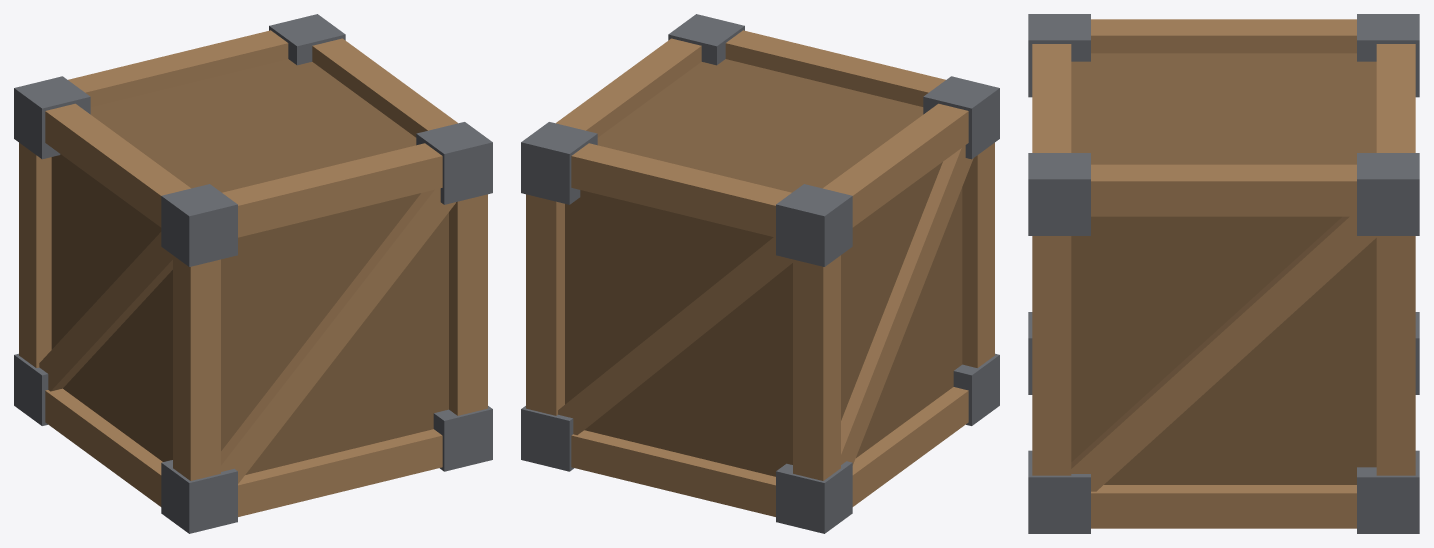
File: crate_01.glb
3 renders of one model, left to right at view 1: azimuth 30°, elevation 25°; view 2: azimuth 150°, elevation 25°; view 3: azimuth 270°, elevation 25°, orthographic. The views are drawn at different scales.
Visible parts, largest first — view 1: Crate_01; view 2: Crate_01; view 3: Crate_01.
Part boxes in pixels (x1=…): Crate_01: x1=14, y1=14, x2=492, y2=533; Crate_01: x1=521, y1=14, x2=999, y2=533; Crate_01: x1=1028, y1=14, x2=1419, y2=533.
Bounding box in the file's own units: 1 × 1 × 1.
